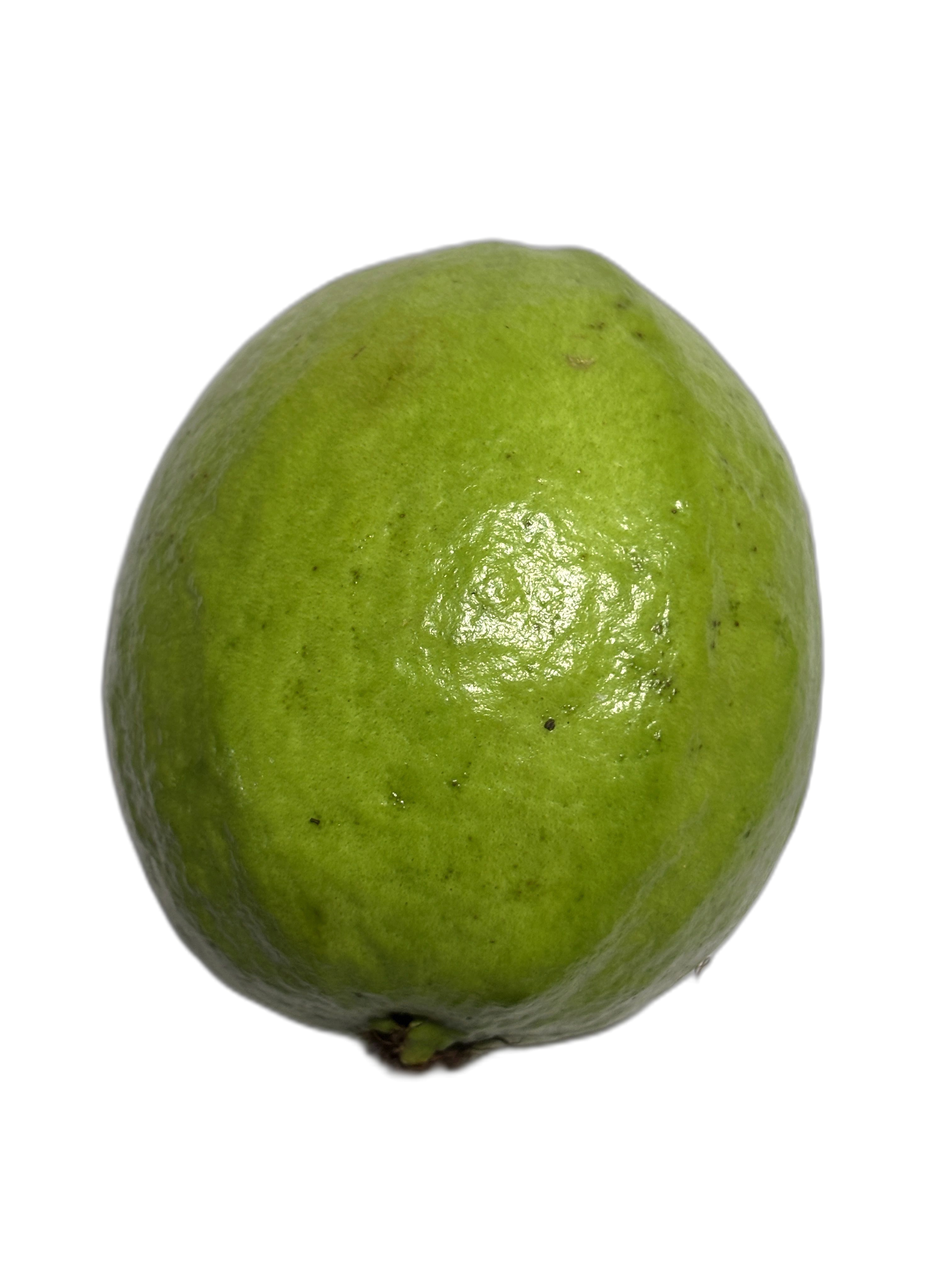guava: (92, 261, 748, 1093)
